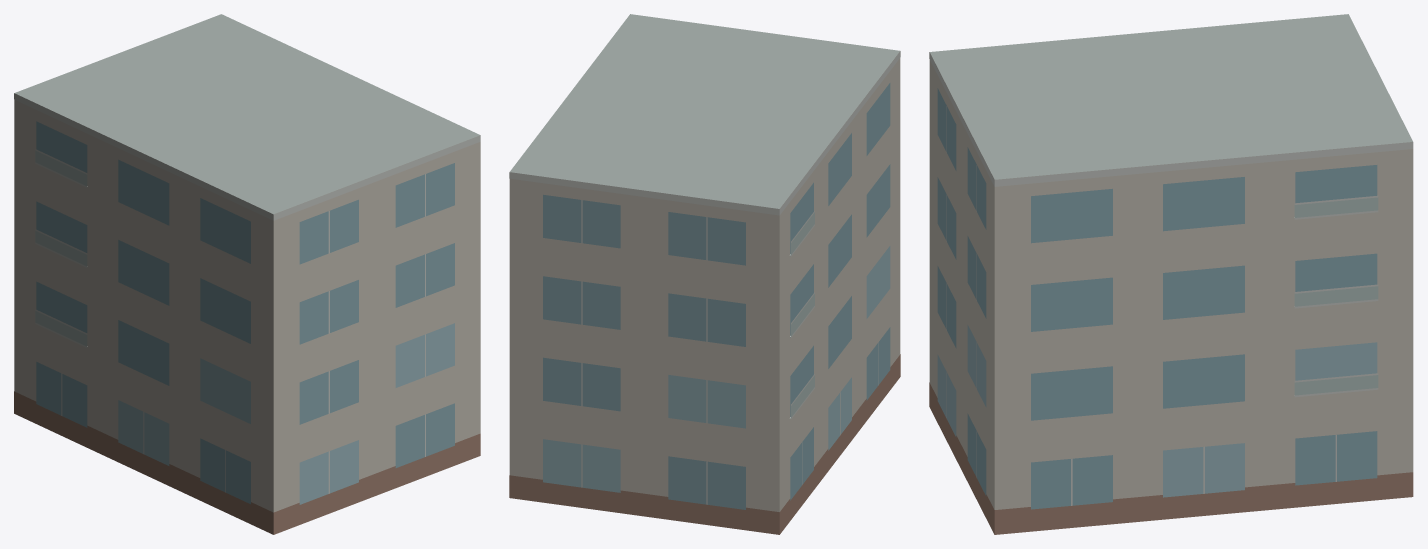
File: residential-ff761b46-9ac9-429e-9456-c6e7021b0832.glb
3 views of the same model, side by side, from view 1: azimuth 30°, elevation 25°; view 2: azimuth 150°, elevation 25°; view 3: azimuth 270°, elevation 25° (orthographic). The views are drawn at different scales.
Parts seen in each view (by area): view 1: residential-ff761b46-9ac9-429e-9456-c6e7021b0832.tmp; view 2: residential-ff761b46-9ac9-429e-9456-c6e7021b0832.tmp; view 3: residential-ff761b46-9ac9-429e-9456-c6e7021b0832.tmp.
Part boxes in pixels (x1,y1,x2,y2): residential-ff761b46-9ac9-429e-9456-c6e7021b0832.tmp: [14, 14, 480, 534]; residential-ff761b46-9ac9-429e-9456-c6e7021b0832.tmp: [509, 14, 900, 534]; residential-ff761b46-9ac9-429e-9456-c6e7021b0832.tmp: [929, 14, 1413, 534].
Bounding box in the file's own units: 12.23 × 12.2 × 15.07.
